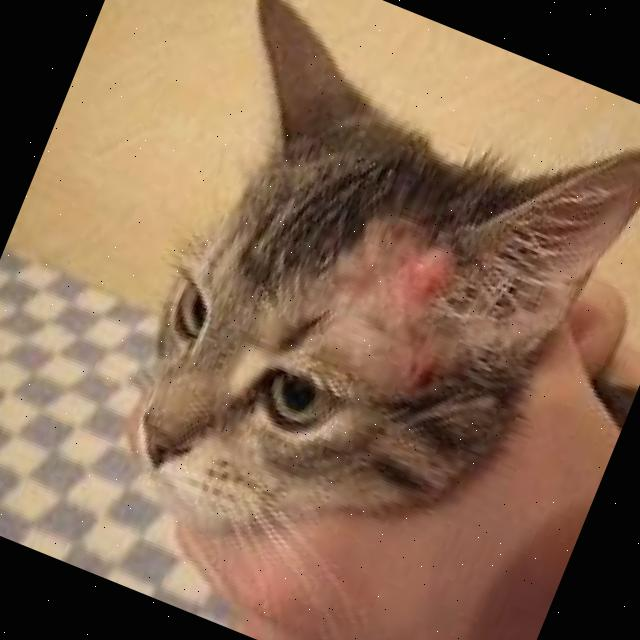cat-dermatitis: (264, 173, 506, 410)
